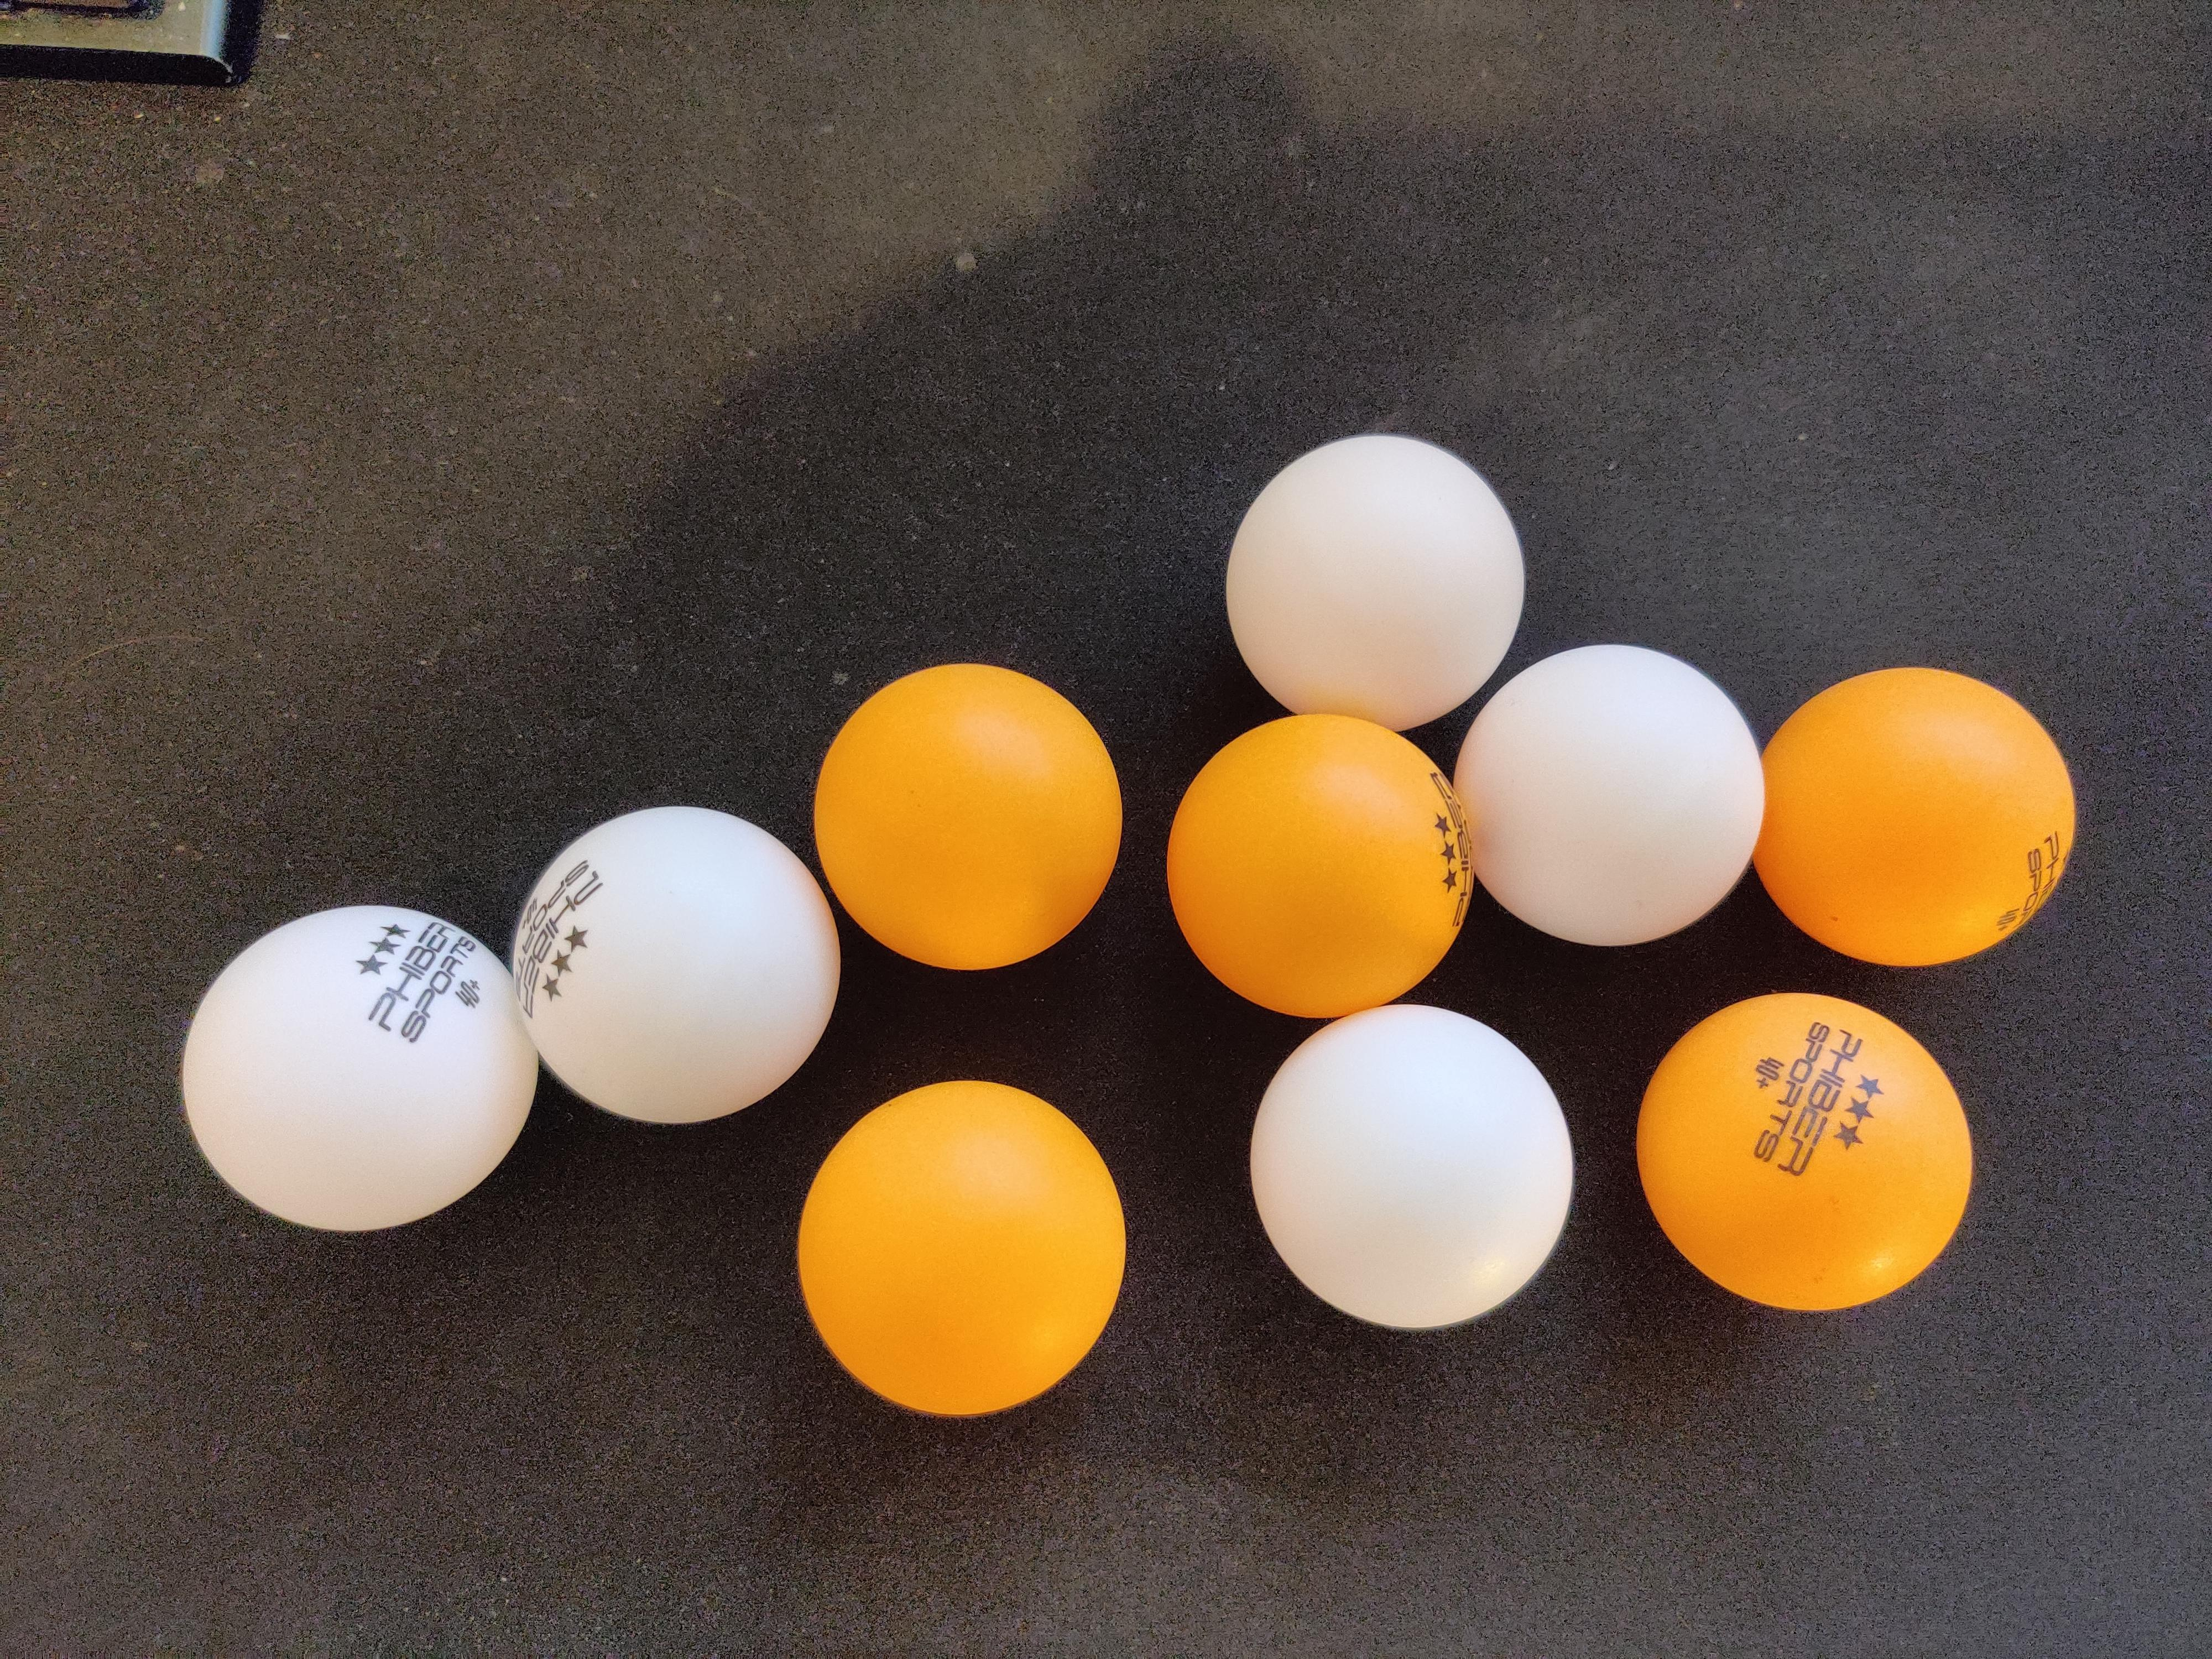orange: (798, 1075, 1130, 1420), (1639, 990, 1975, 1314), (1745, 664, 2083, 967), (1162, 709, 1480, 1021), (813, 659, 1127, 972)
white: (176, 897, 543, 1239), (1247, 1000, 1583, 1333), (514, 798, 845, 1127), (1449, 638, 1766, 951), (1223, 429, 1529, 739)
